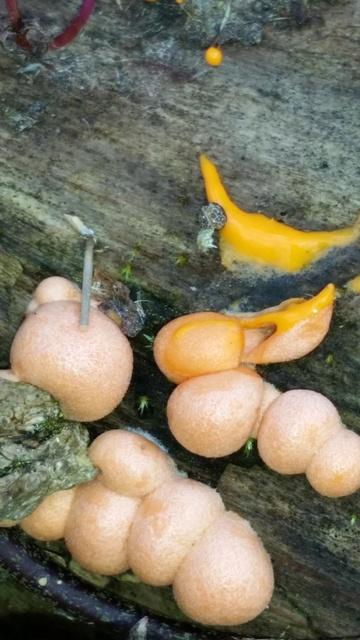poisonous_mushroom: (18, 427, 275, 627), (195, 151, 359, 280), (151, 282, 336, 384), (63, 428, 179, 575), (8, 297, 134, 422), (171, 509, 275, 627), (256, 387, 359, 498), (126, 476, 225, 586), (165, 365, 264, 458), (152, 310, 245, 384)
